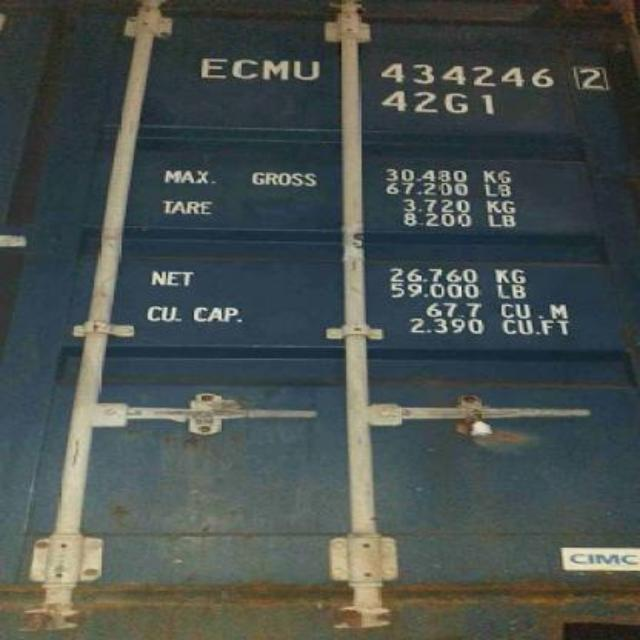2: (574, 65, 608, 91), (468, 66, 502, 86)
3: (408, 58, 436, 86)
4: (370, 54, 410, 84), (496, 60, 530, 90), (438, 58, 472, 86)
6: (526, 60, 560, 90)
C: (232, 54, 256, 84)
E: (188, 51, 228, 80)
M: (252, 54, 290, 84)
U: (290, 53, 326, 83)
